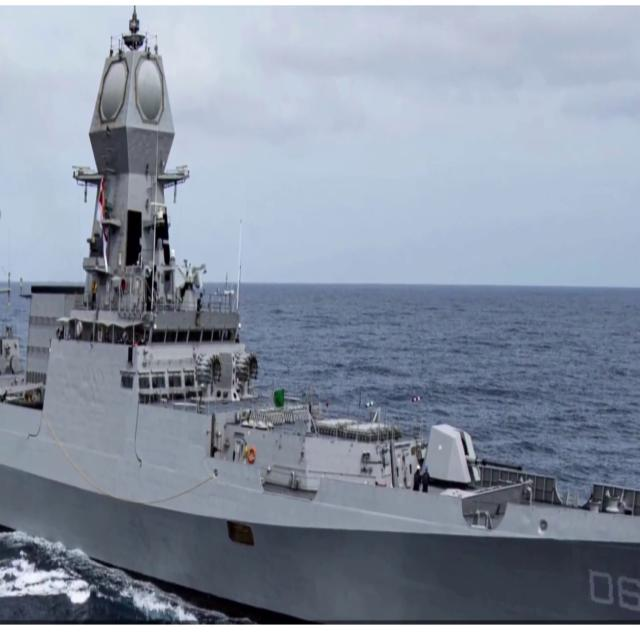OCR: (583, 564, 640, 619)
